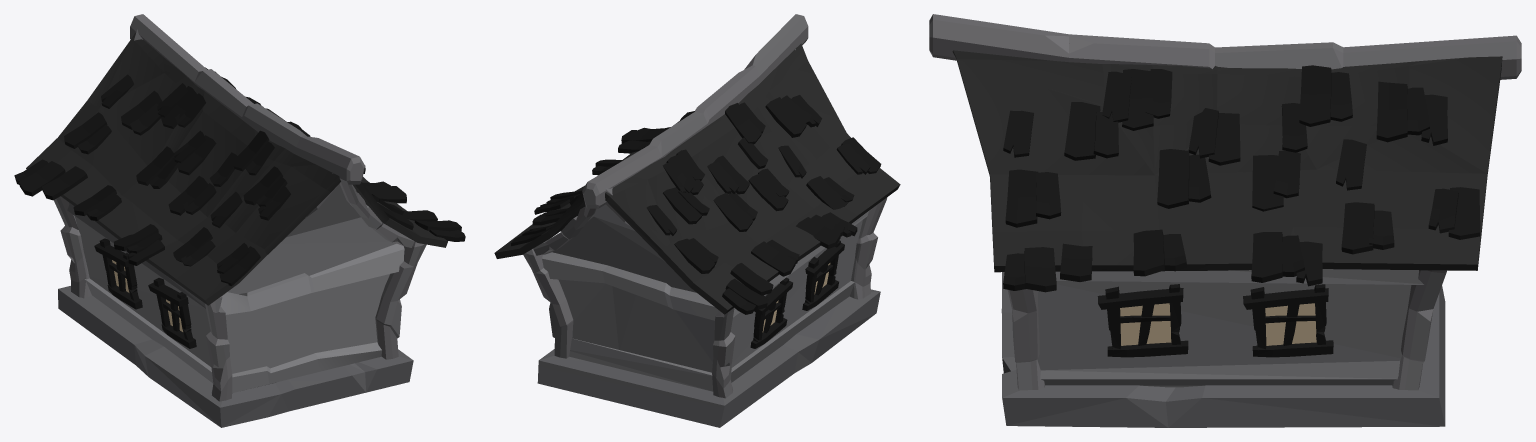
File: WF_LP_HT_Build_HouseRoom.001.4.fbx
3 views of the same model, side by side, from view 1: azimuth 30°, elevation 25°; view 2: azimuth 150°, elevation 25°; view 3: azimuth 270°, elevation 25° (orthographic). The views are drawn at different scales.
Parts seen in each view (by area): view 1: WF_LP_HT_Build_HouseRoom.001.4; view 2: WF_LP_HT_Build_HouseRoom.001.4; view 3: WF_LP_HT_Build_HouseRoom.001.4.
Boxes of the visible parts, <box> form: WF_LP_HT_Build_HouseRoom.001.4: <box>14,14,465,427</box>; WF_LP_HT_Build_HouseRoom.001.4: <box>494,14,900,427</box>; WF_LP_HT_Build_HouseRoom.001.4: <box>929,14,1521,427</box>.
Bounding box in the file's own units: 5.79 × 5 × 7.55.
